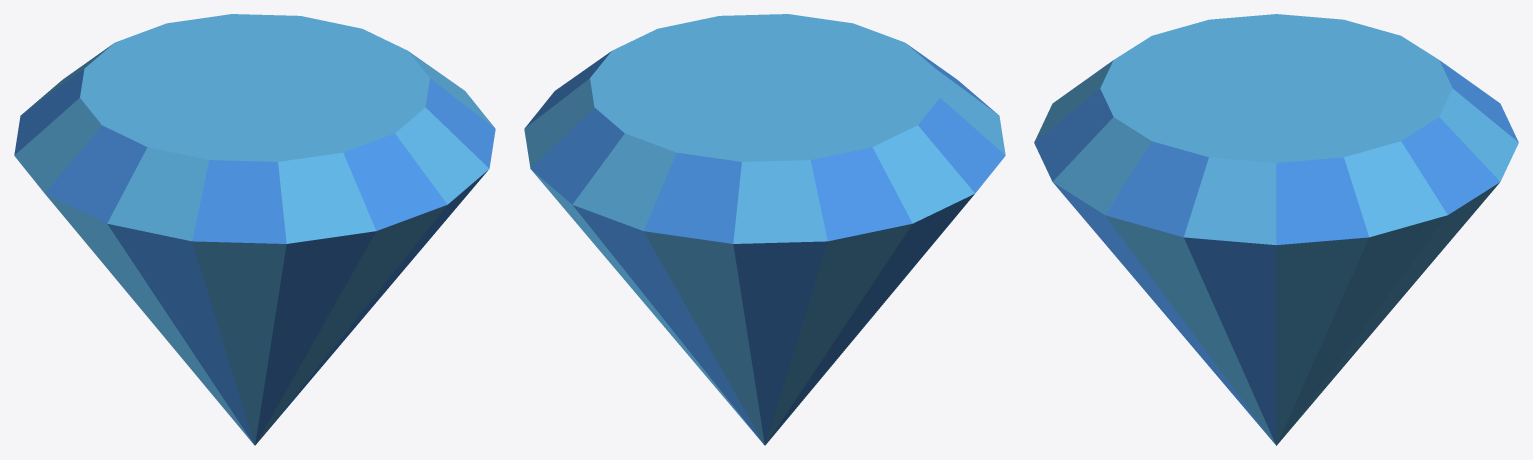
File: diamond.fbx
3 renders of one model, left to right at view 1: azimuth 30°, elevation 25°; view 2: azimuth 150°, elevation 25°; view 3: azimuth 270°, elevation 25°, orthographic.
Visible parts, largest first — view 1: diamond; view 2: diamond; view 3: diamond.
Part boxes in pixels (<box>): diamond: <box>14,14,495,445</box>; diamond: <box>524,14,1005,445</box>; diamond: <box>1034,14,1518,445</box>.
Size of the model in its own units: 0.7729 by 0.6287 by 0.7729.
